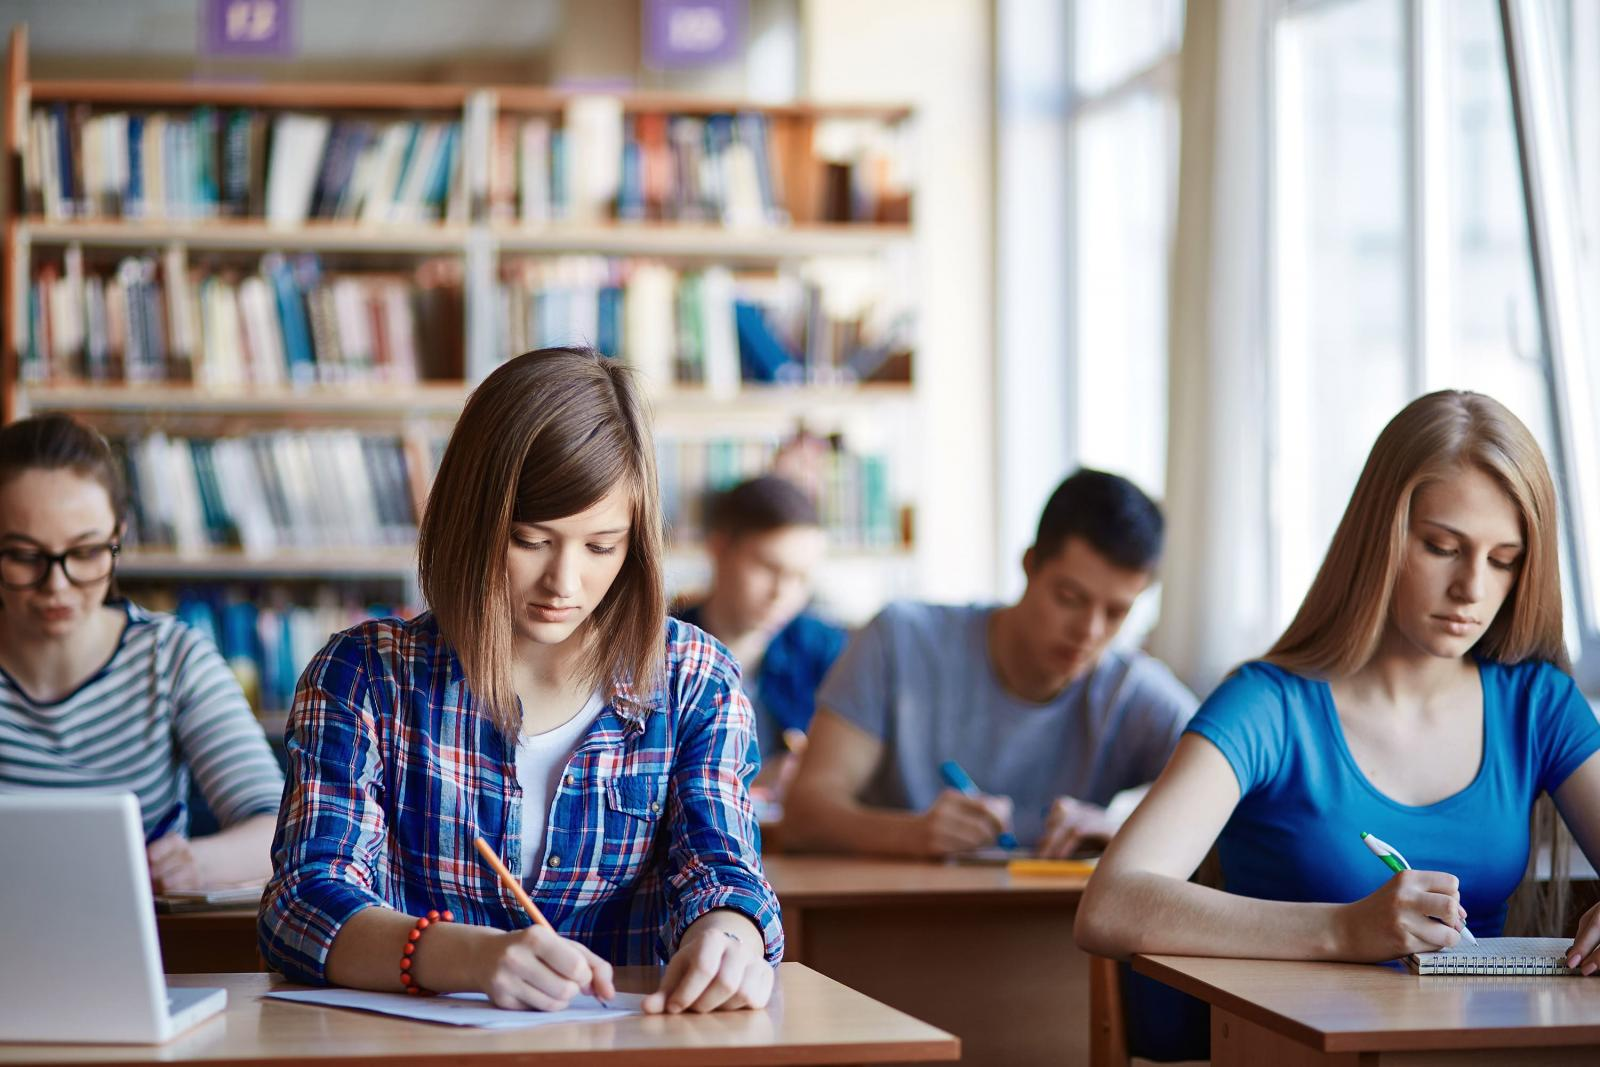students: (260, 343, 786, 1019), (1074, 387, 1600, 982), (786, 469, 1206, 857), (1, 409, 287, 900), (669, 474, 855, 757)
